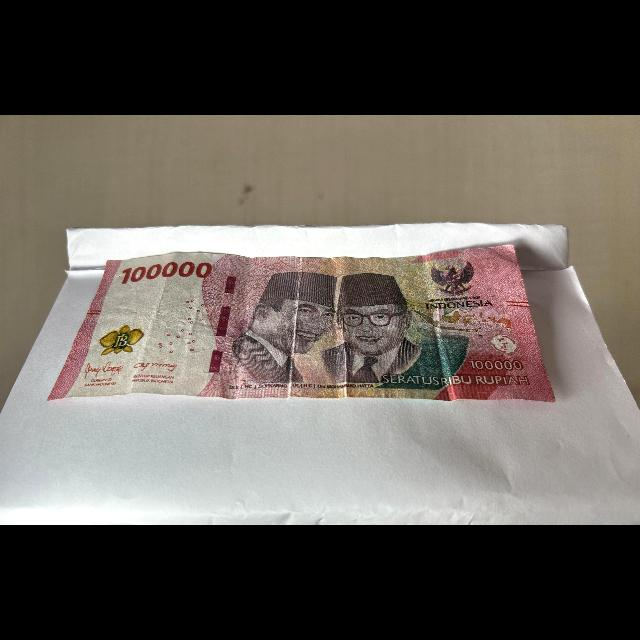Palsu-100k: (42, 241, 560, 409)
Tinta-Palsu-100k: (91, 321, 149, 357)
